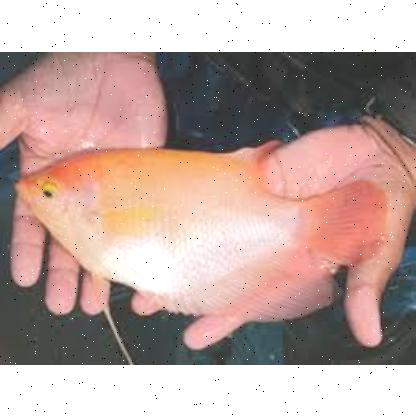gurame: (14, 143, 354, 310)
